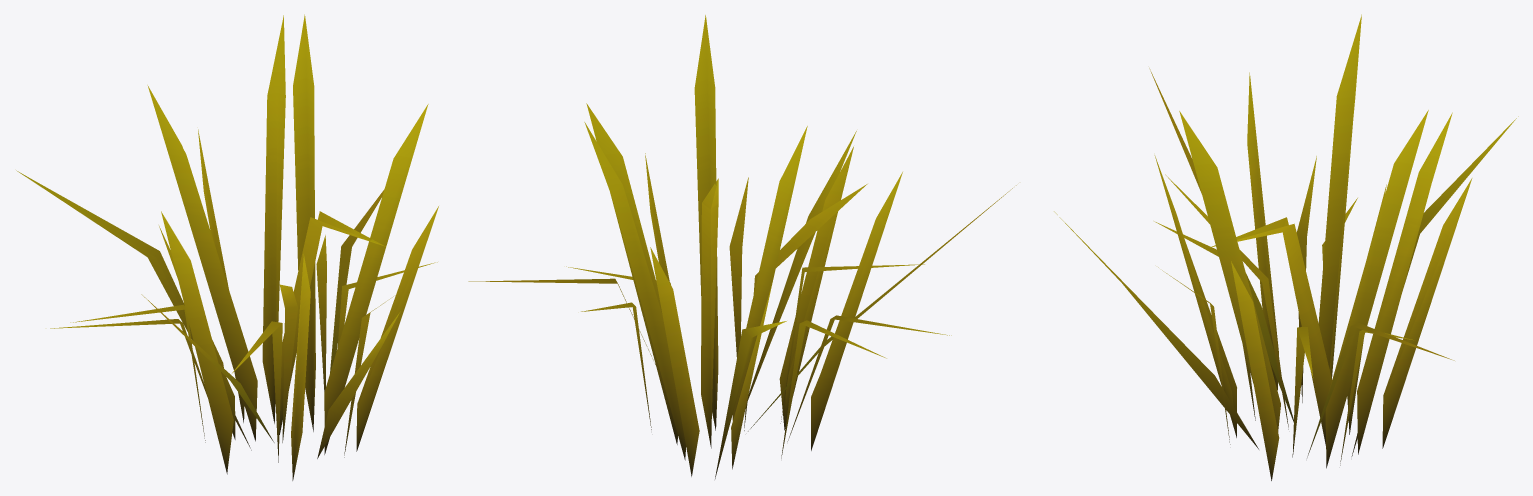
File: Grass_Wispy_Short@lod.gltf
The picture shows the model from 3 angles, left to right: view 1: azimuth 30°, elevation 25°; view 2: azimuth 150°, elevation 25°; view 3: azimuth 270°, elevation 25°; orthographic projection. The views are drawn at different scales.
Parts seen in each view (by area): view 1: Grass_Wispy_Short; view 2: Grass_Wispy_Short; view 3: Grass_Wispy_Short.
Part boxes in pixels (x1=…): Grass_Wispy_Short: x1=16, y1=14, x2=438, y2=480; Grass_Wispy_Short: x1=468, y1=15, x2=1016, y2=478; Grass_Wispy_Short: x1=1054, y1=14, x2=1518, y2=480.
Size of the model in its own units: 1.21 by 1.07 by 1.14.
1 material, 1 textured.
